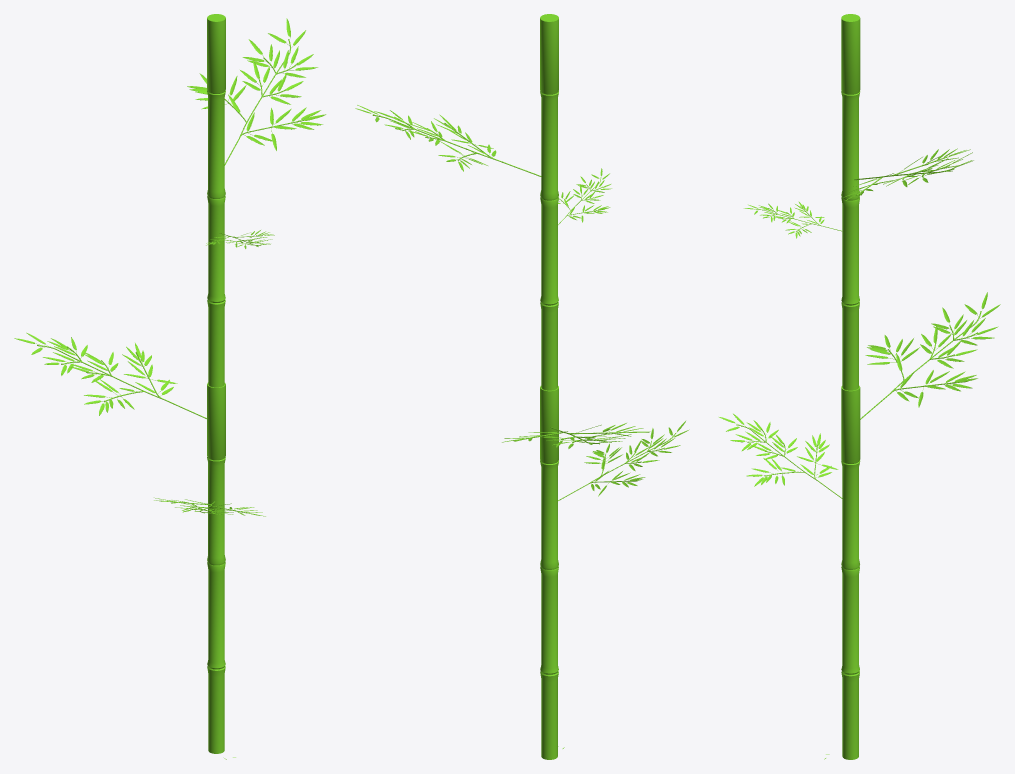
Rendered from deanamu3.fbx.
The picture shows the model from 3 angles, left to right: view 1: azimuth 30°, elevation 25°; view 2: azimuth 150°, elevation 25°; view 3: azimuth 270°, elevation 25°; orthographic projection.
Visible parts, largest first — view 1: Plane.002; view 2: Plane.002; view 3: Plane.002.
Part boxes in pixels (x1,y1,x2,y2): Plane.002: (14, 14, 326, 759); Plane.002: (355, 14, 689, 759); Plane.002: (719, 14, 1000, 759).
Bounding box in the file's own units: 233 × 593 × 205.
